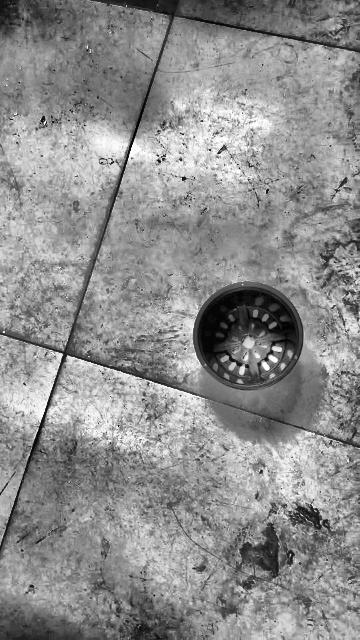pot: (193, 283, 303, 390)
